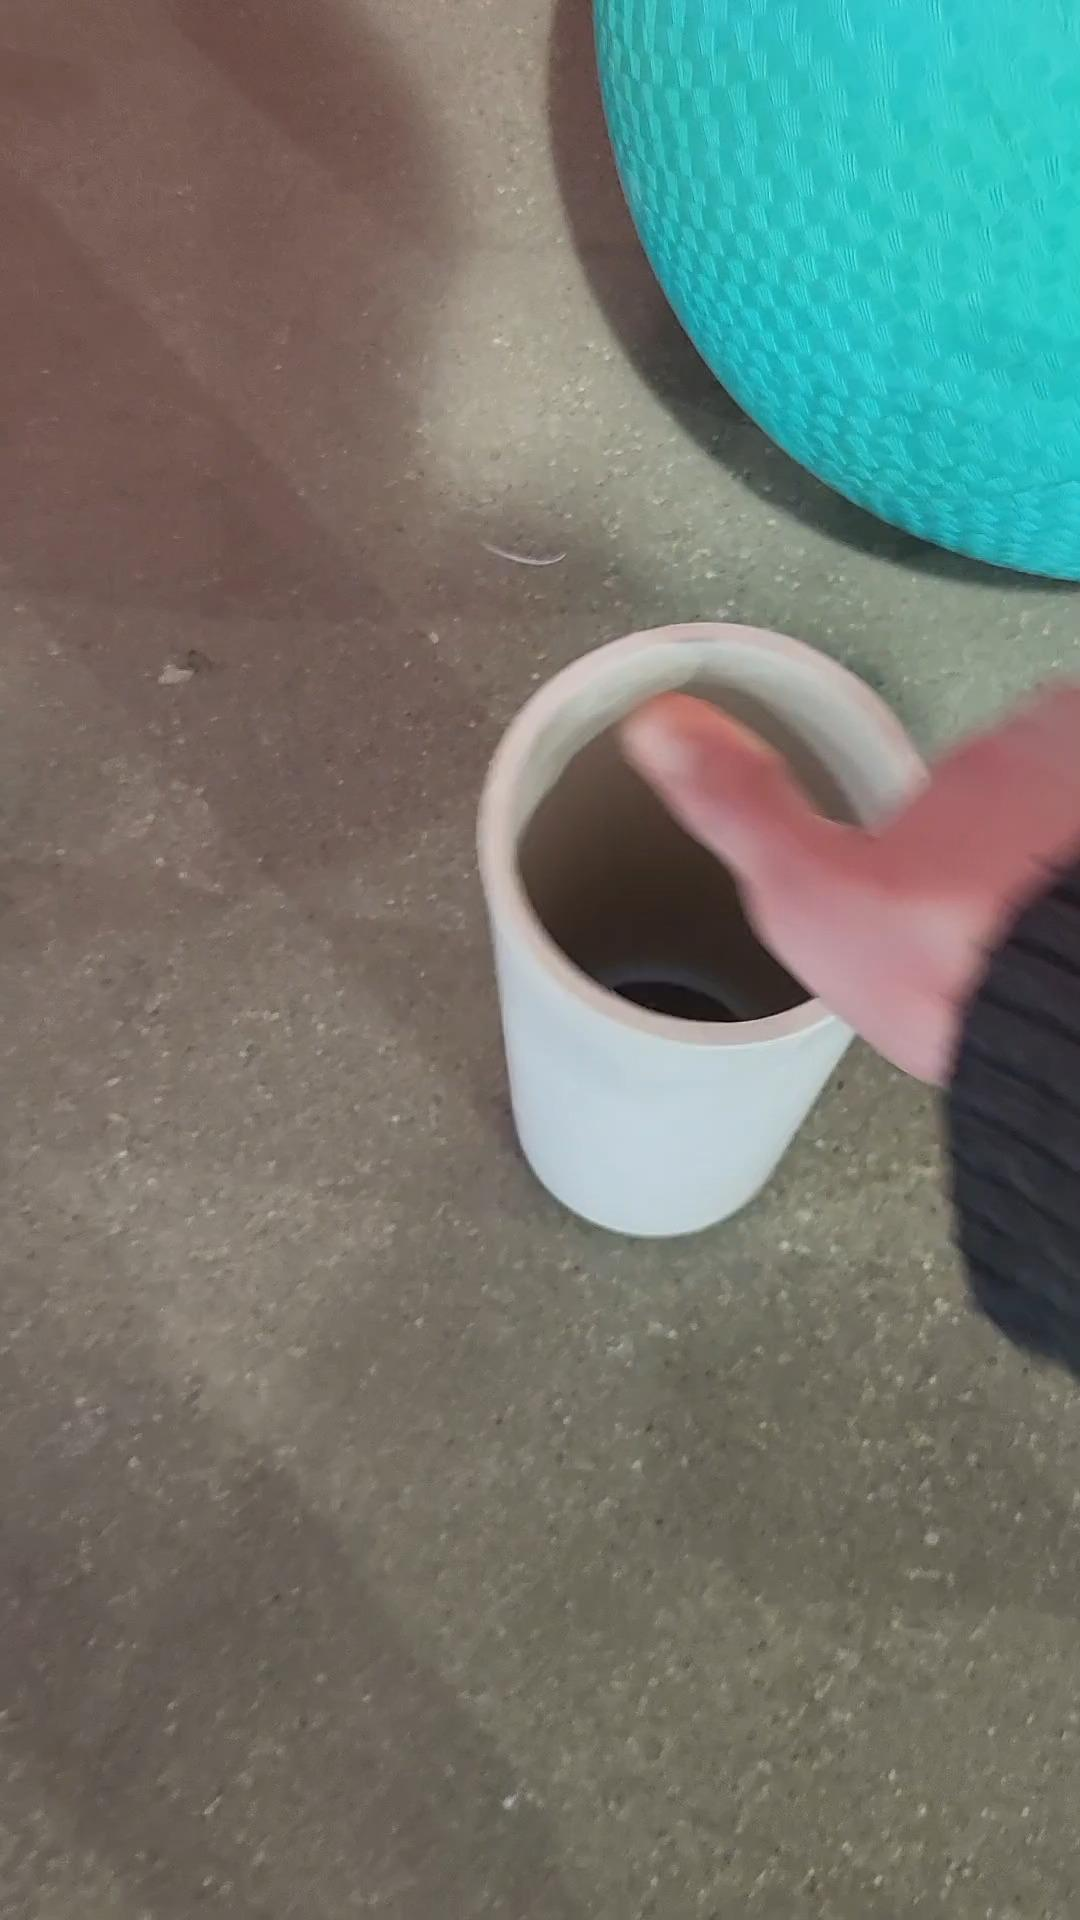algae: (551, 0, 1080, 608)
coral: (456, 611, 931, 1276)
